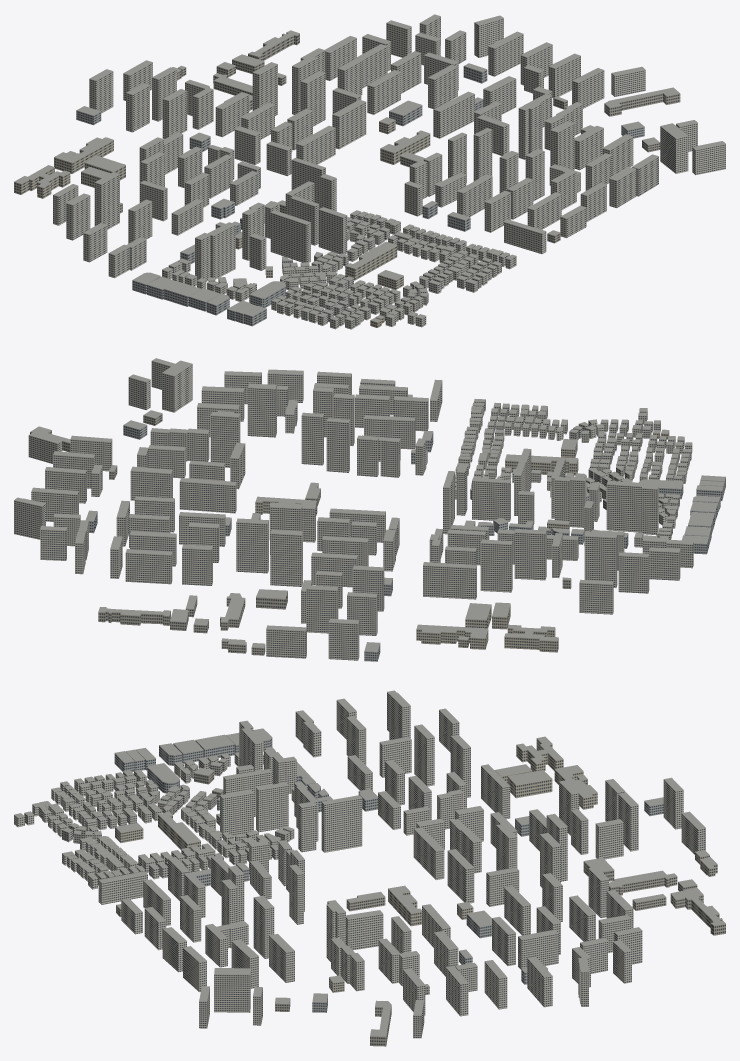
3 renders of one model, top to bottom at view 1: azimuth 30°, elevation 25°; view 2: azimuth 150°, elevation 25°; view 3: azimuth 270°, elevation 25°, orthographic. The views are drawn at different scales.
Parts seen in each view (by area): view 1: ctx-apartments, ctx-roof, ctx-commercial, ctx-school, ctx-other; view 2: ctx-apartments, ctx-roof, ctx-school, ctx-other, ctx-commercial; view 3: ctx-apartments, ctx-roof, ctx-commercial, ctx-school, ctx-other.
Boxes of the visible parts, left/top/right/bottom form: ctx-apartments: left=53, top=16, right=725, bottom=329; ctx-roof: left=14, top=14, right=725, bottom=322; ctx-commercial: left=76, top=66, right=644, bottom=326; ctx-school: left=14, top=120, right=585, bottom=289; ctx-other: left=72, top=32, right=680, bottom=287; ctx-apartments: left=14, top=361, right=693, bottom=660; ctx-roof: left=14, top=358, right=725, bottom=651; ctx-school: left=255, top=440, right=578, bottom=652; ctx-other: left=30, top=395, right=662, bottom=655; ctx-commercial: left=89, top=425, right=725, bottom=661; ctx-apartments: left=14, top=692, right=705, bottom=1038; ctx-roof: left=14, top=690, right=725, bottom=1036; ctx-commercial: left=114, top=735, right=663, bottom=1012; ctx-school: left=115, top=738, right=597, bottom=992; ctx-other: left=116, top=771, right=725, bottom=1046.
Bounding box in the file's own units: 1001 × 94.93 × 944.
6 materials, 5 textured.
